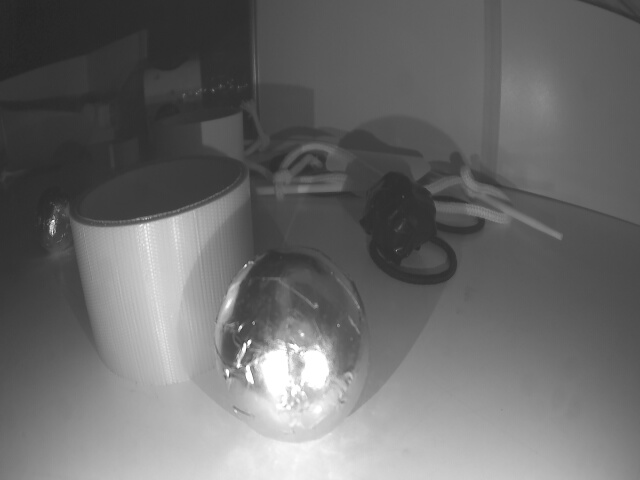Dead: (363, 172, 436, 264)
Live: (210, 239, 376, 442), (30, 189, 76, 251)
